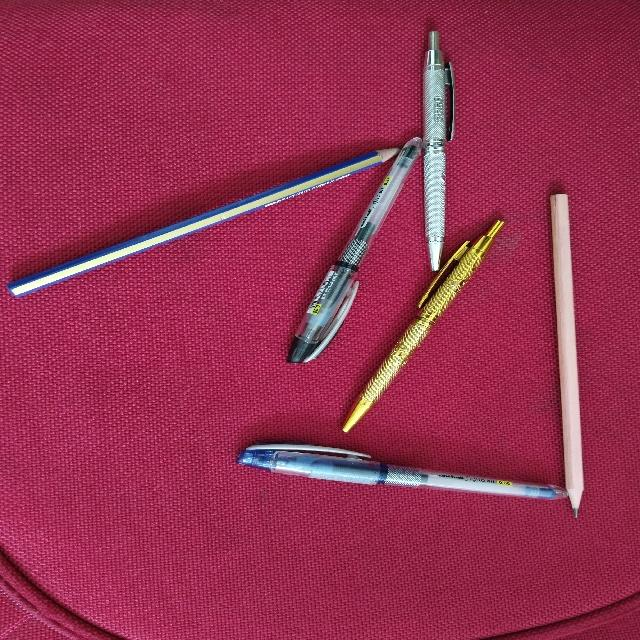pen: (287, 137, 421, 362), (237, 444, 566, 499)
pencil: (7, 148, 398, 295), (551, 194, 583, 516)
signature pen: (343, 221, 503, 431), (423, 31, 454, 270)
